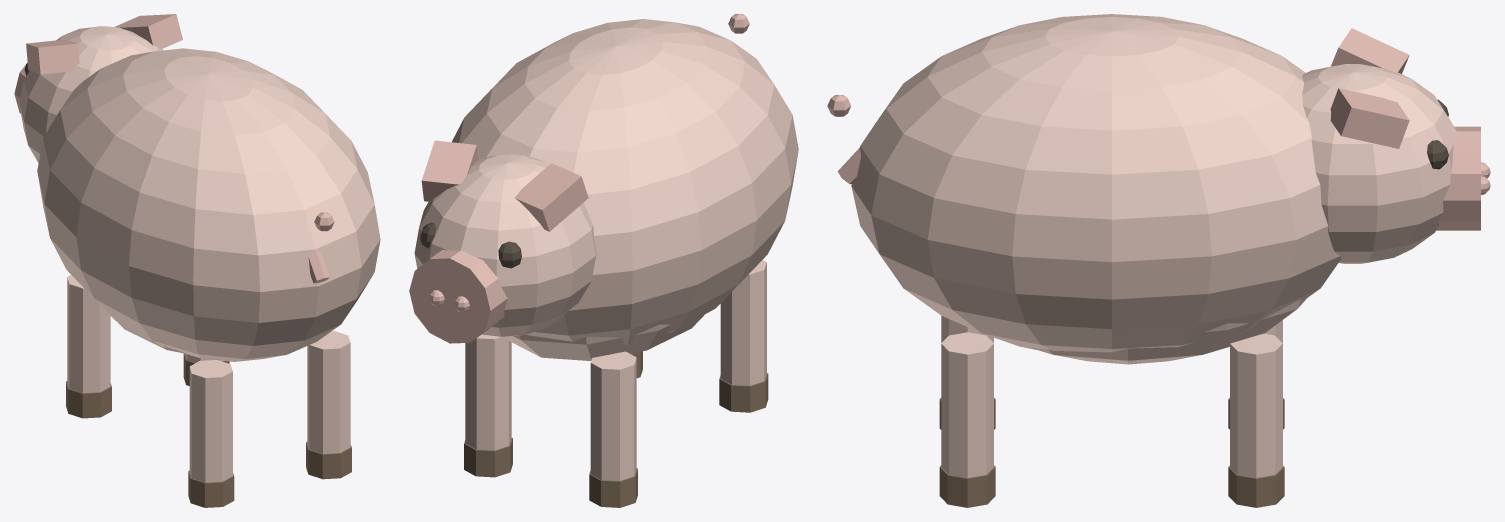
The model's file is pig.glb.
3 renders of one model, left to right at view 1: azimuth 30°, elevation 25°; view 2: azimuth 150°, elevation 25°; view 3: azimuth 270°, elevation 25°, orthographic. The views are drawn at different scales.
Parts seen in each view (by area): view 1: Pig; view 2: Pig; view 3: Pig.
Boxes of the visible parts, <box> form: Pig: <box>14,14,380,507</box>; Pig: <box>409,14,798,507</box>; Pig: <box>827,14,1490,507</box>.
Bounding box in the file's own units: 0.45 × 0.5925 × 0.827.
